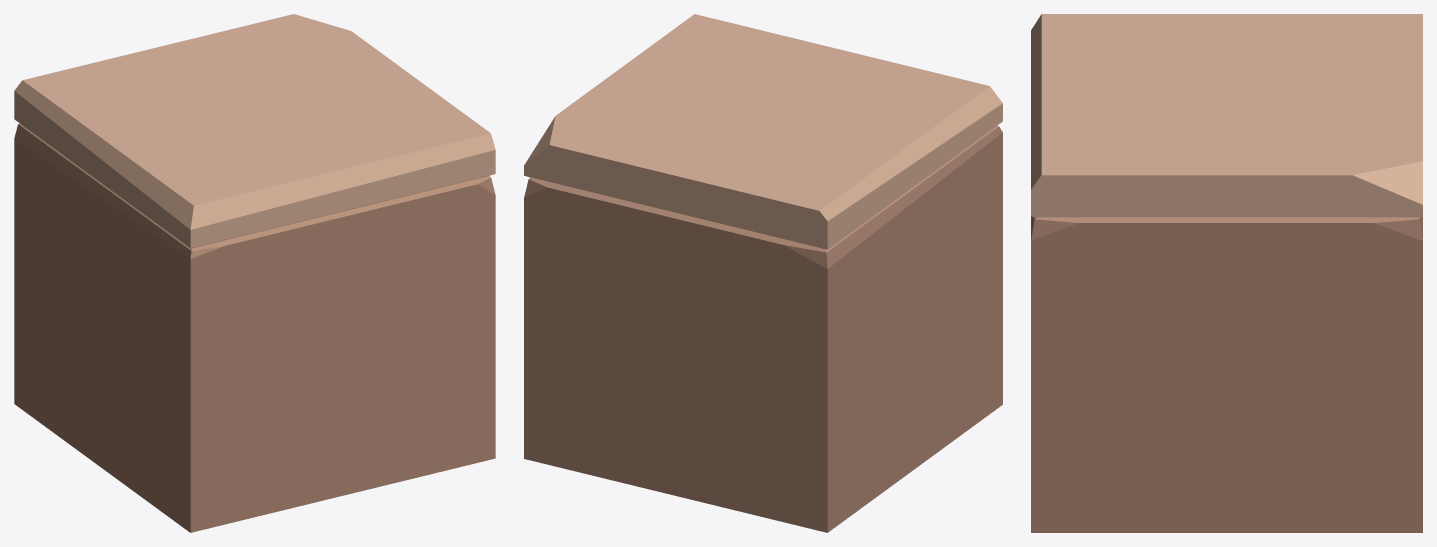
File: Path_up.gltf
The picture shows the model from 3 angles, left to right: view 1: azimuth 30°, elevation 25°; view 2: azimuth 150°, elevation 25°; view 3: azimuth 270°, elevation 25°; orthographic projection. The views are drawn at different scales.
Visible parts, largest first — view 1: Level cube.005, Level cube.001; view 2: Level cube.005, Level cube.001; view 3: Level cube.005, Level cube.001.
Part boxes in pixels (x1=…): Level cube.005: x1=14, y1=123, x2=495, y2=532; Level cube.001: x1=14, y1=14, x2=495, y2=248; Level cube.005: x1=524, y1=125, x2=1002, y2=532; Level cube.001: x1=524, y1=14, x2=1002, y2=249; Level cube.005: x1=1031, y1=216, x2=1422, y2=532; Level cube.001: x1=1031, y1=14, x2=1422, y2=217.
Size of the model in its own units: 3.97 by 4 by 3.97.
